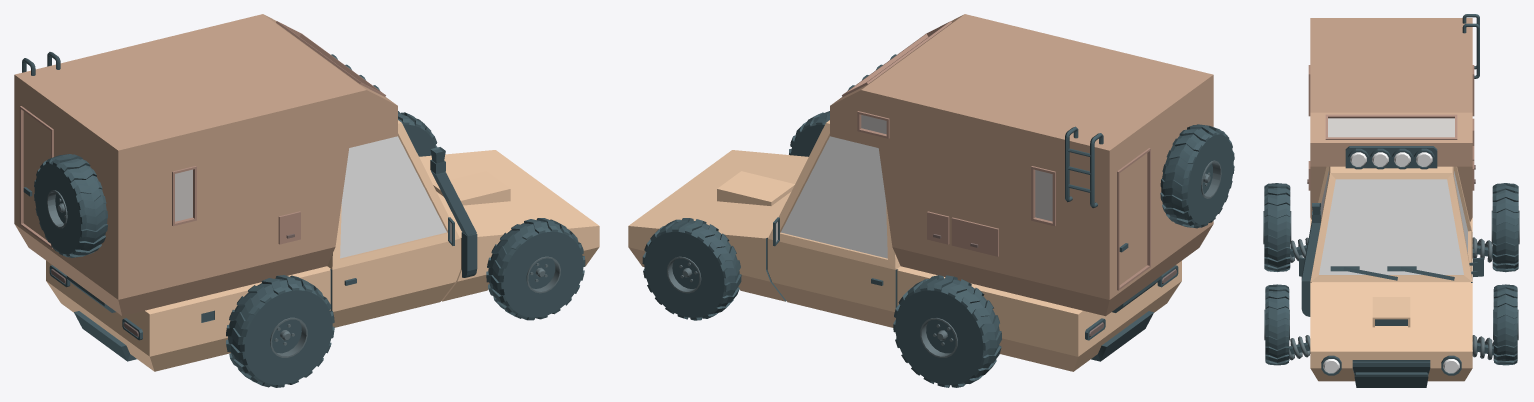
File: car2.glb
3 views of the same model, side by side, from view 1: azimuth 30°, elevation 25°; view 2: azimuth 150°, elevation 25°; view 3: azimuth 270°, elevation 25° (orthographic). The views are drawn at different scales.
Parts seen in each view (by area): view 1: Spring.002, Rear_wheel_right, Front_wheel_right, Front_wheel_left; view 2: Spring.002, Rear_wheel_left, Front_wheel_left, Front_wheel_right; view 3: Spring.002, Rear_wheel_left, Rear_wheel_right, Front_wheel_right, Front_wheel_left.
Part boxes in pixels (x1,y1,x2,y2): Spring.002: [14, 14, 599, 371]; Rear_wheel_right: [226, 275, 334, 387]; Front_wheel_right: [486, 218, 585, 320]; Front_wheel_left: [398, 111, 437, 156]; Spring.002: [628, 14, 1234, 371]; Rear_wheel_left: [893, 275, 1001, 387]; Front_wheel_left: [642, 218, 741, 320]; Front_wheel_right: [789, 111, 829, 156]; Spring.002: [1289, 14, 1493, 387]; Rear_wheel_left: [1491, 183, 1519, 272]; Rear_wheel_right: [1263, 183, 1291, 271]; Front_wheel_right: [1264, 284, 1289, 365]; Front_wheel_left: [1493, 284, 1518, 365].
Size of what is drawn, in the model's own units: 5.75 by 2.8 by 3.16.
